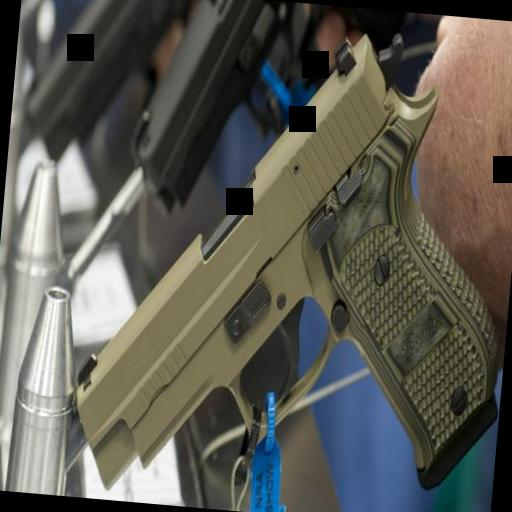Handgun: (63, 7, 512, 512)
